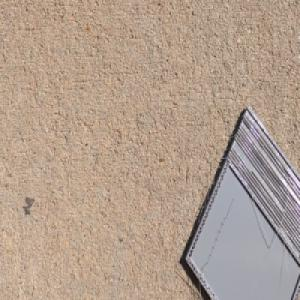PlasticPart: (182, 103, 300, 300)
